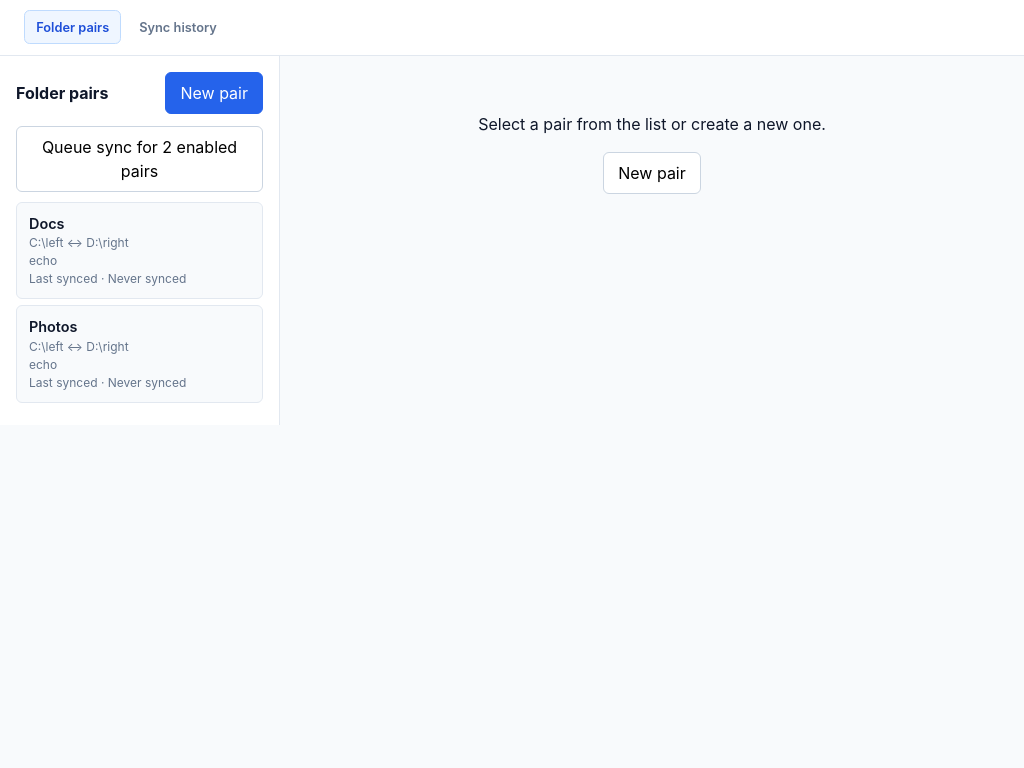
Test: sync queue view › still offers results when a clean scan produced warnings
Click the button "Docs C:\\left ↔ D:\\right echo Last synced · Never synced" at (140, 251), box [16,202,263,299]
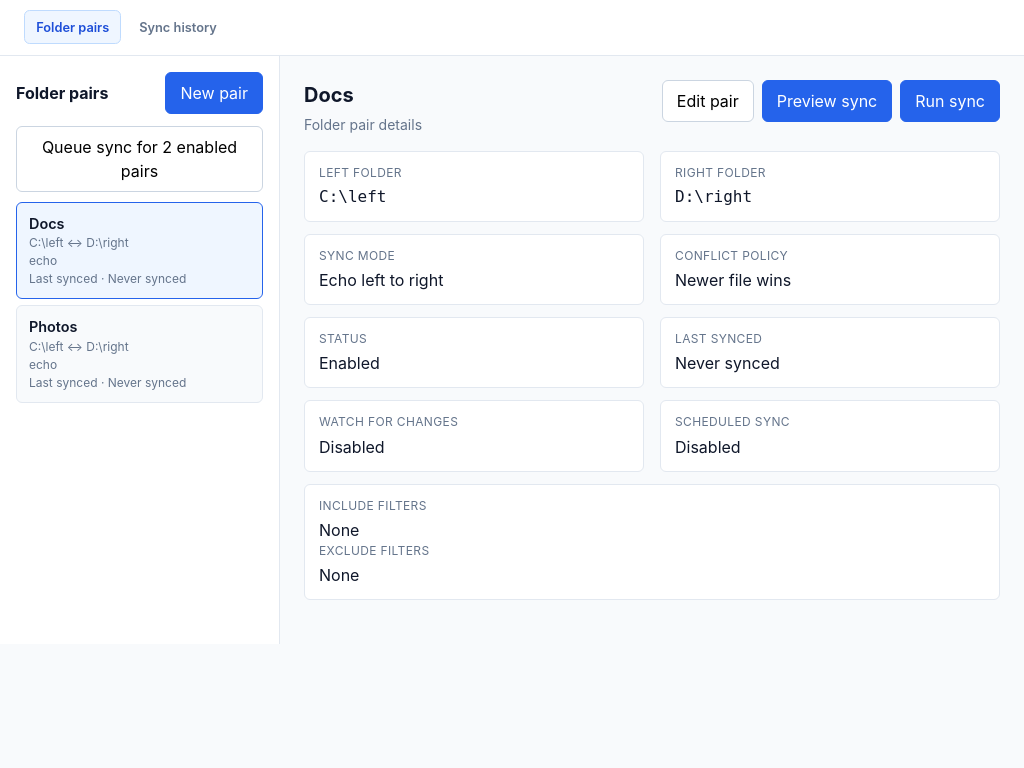
Click the button "Preview sync" at (827, 101), box [762,80,892,122]
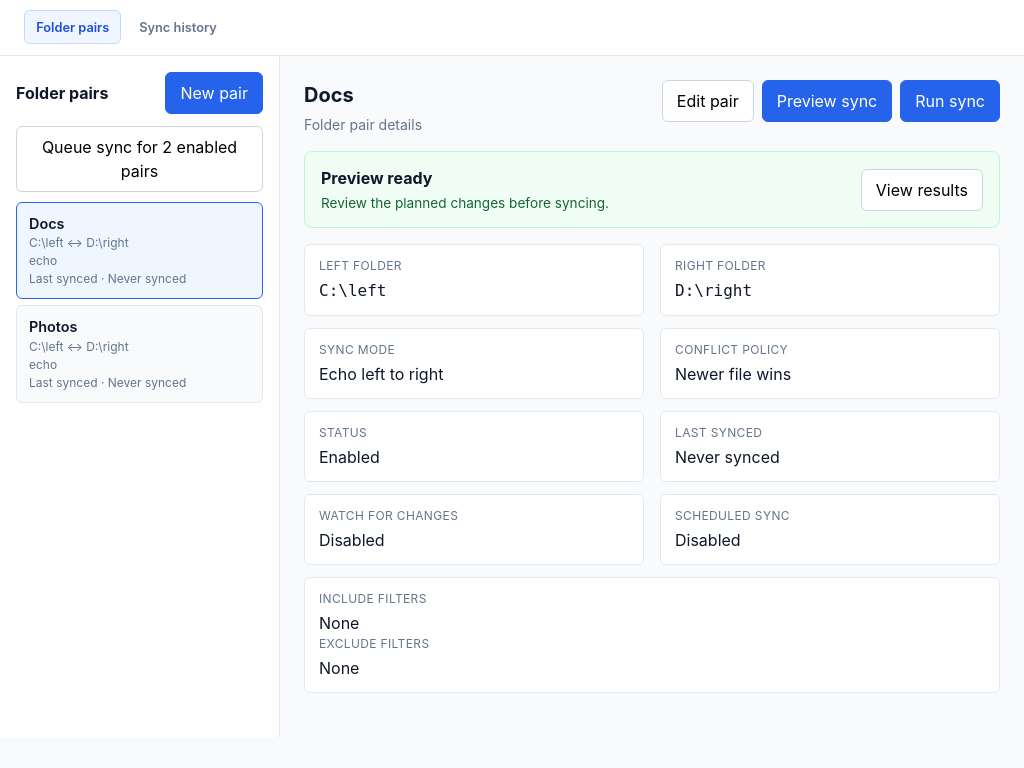
Now the button "View results" is shown, box [861,168,983,210]
